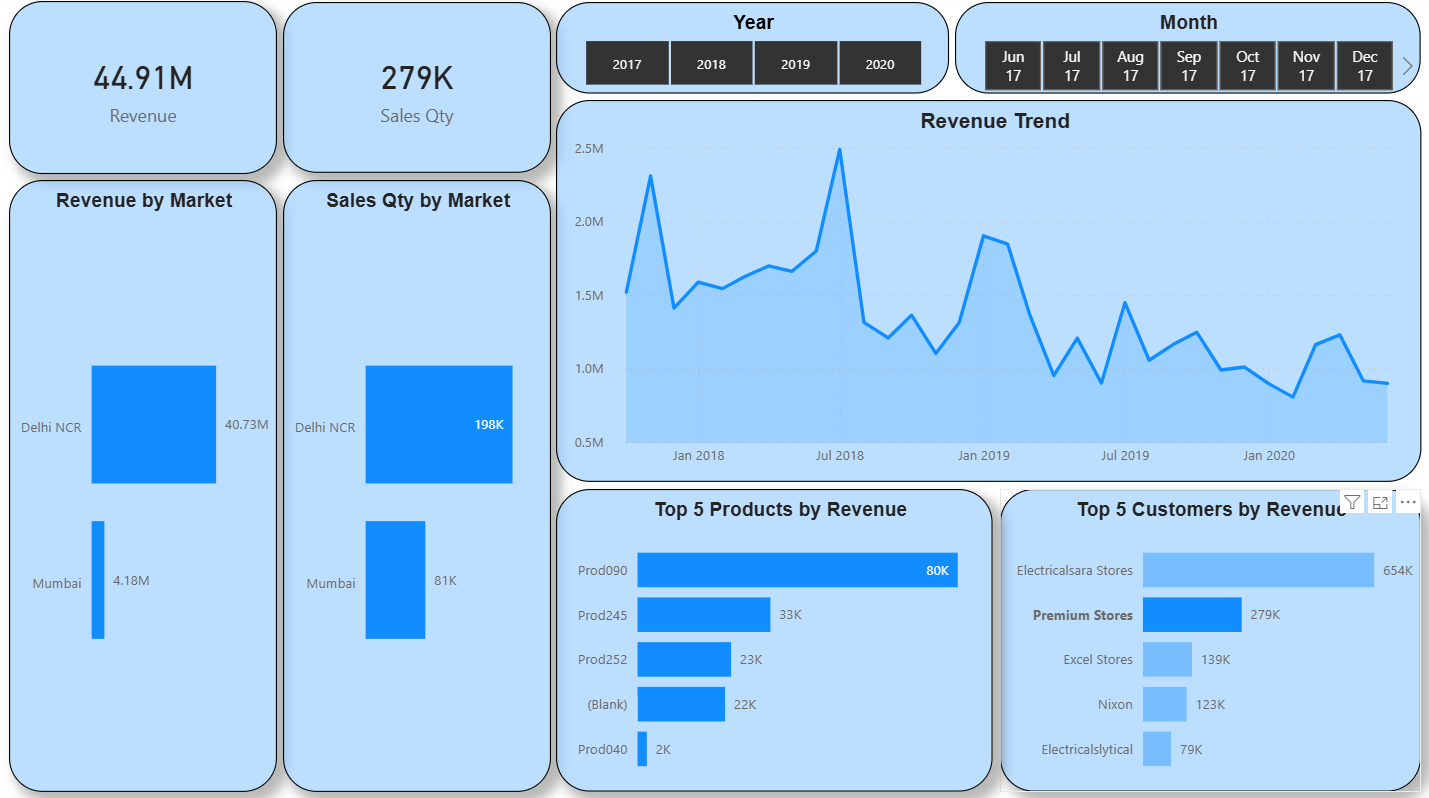

What the dashboard file says about the page in this screenshot:
{"tool":"powerbi","page":{"name":"Page 1","canvas":[1280,720],"ordinal":0},"visuals":[{"type":"card","fields":{"Values":["BaseMeasures.Revenue"]},"box":[8.1,4.5,240,154.9],"z":0},{"type":"card","fields":{"Values":["BaseMeasures.Sales Qty"]},"box":[253.4,5.4,240,153.1],"z":1000},{"type":"barChart","title":"Revenue by Market","fields":{"Category":["markets.markets_name"],"Y":["BaseMeasures.Revenue"]},"box":[8.1,164.8,240,548.1],"z":2000},{"type":"barChart","title":"Sales Qty by Market","fields":{"Category":["markets.markets_name"],"Y":["BaseMeasures.Sales Qty"]},"box":[253.4,164.8,240,548.1],"z":3000},{"type":"slicer","title":"Month","fields":{"Values":["date.cy_date"]},"box":[855.2,5.4,417.3,82.4],"z":4000},{"type":"slicer","title":"Year","fields":{"Values":["date.year"]},"box":[497.9,5.4,352,82.4],"z":5000},{"type":"barChart","title":"Top 5 Customers by Revenue","fields":{"Category":["customers.custmer_name"],"Y":["BaseMeasures.Sales Qty"]},"box":[895.5,441.5,377,271.3],"z":6000},{"type":"barChart","title":"Top 5 Products by Revenue","fields":{"Category":["products.product_code"],"Y":["BaseMeasures.Sales Qty"]},"box":[497.9,441.5,391.3,271.3],"z":7000},{"type":"lineChart","title":"Revenue Trend","fields":{"Y":["BaseMeasures.Revenue"],"Category":["date.cy_date.Variation.Date Hierarchy.Year","date.cy_date.Variation.Date Hierarchy.Quarter","date.cy_date.Variation.Date Hierarchy.Month","date.cy_date.Variation.Date Hierarchy.Day"]},"box":[497.9,93.1,774.6,342],"z":8000}]}

Visuals, with their boxes in screenshot pixels (x1, y1, x2, y2), scaled from the page's 1280x720 canvas onto the 1429x798 screenshot:
card - BaseMeasures.Revenue: <bbox>9, 5, 277, 177</bbox>
card - BaseMeasures.Sales Qty: <bbox>283, 6, 551, 176</bbox>
"Revenue by Market" barChart: <bbox>9, 183, 277, 790</bbox>
"Sales Qty by Market" barChart: <bbox>283, 183, 551, 790</bbox>
"Month" slicer: <bbox>955, 6, 1421, 97</bbox>
"Year" slicer: <bbox>556, 6, 949, 97</bbox>
"Top 5 Customers by Revenue" barChart: <bbox>1000, 489, 1421, 790</bbox>
"Top 5 Products by Revenue" barChart: <bbox>556, 489, 993, 790</bbox>
"Revenue Trend" lineChart: <bbox>556, 103, 1421, 482</bbox>
